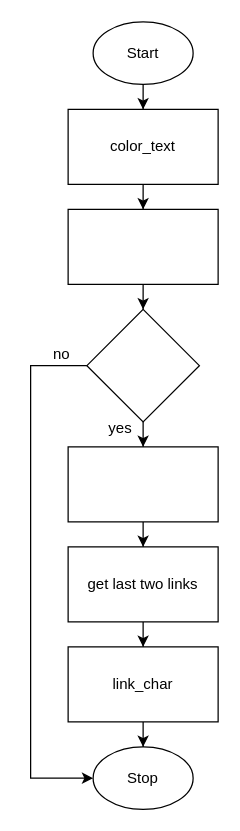
Some shapes in this 240 by 831 pixel diagram are drawn without their labels. Each missing label, with the box of its shape:
check_spot: (67, 208, 218, 284)
increment to end of color space: (67, 446, 218, 522)
space safe: (86, 308, 199, 422)
